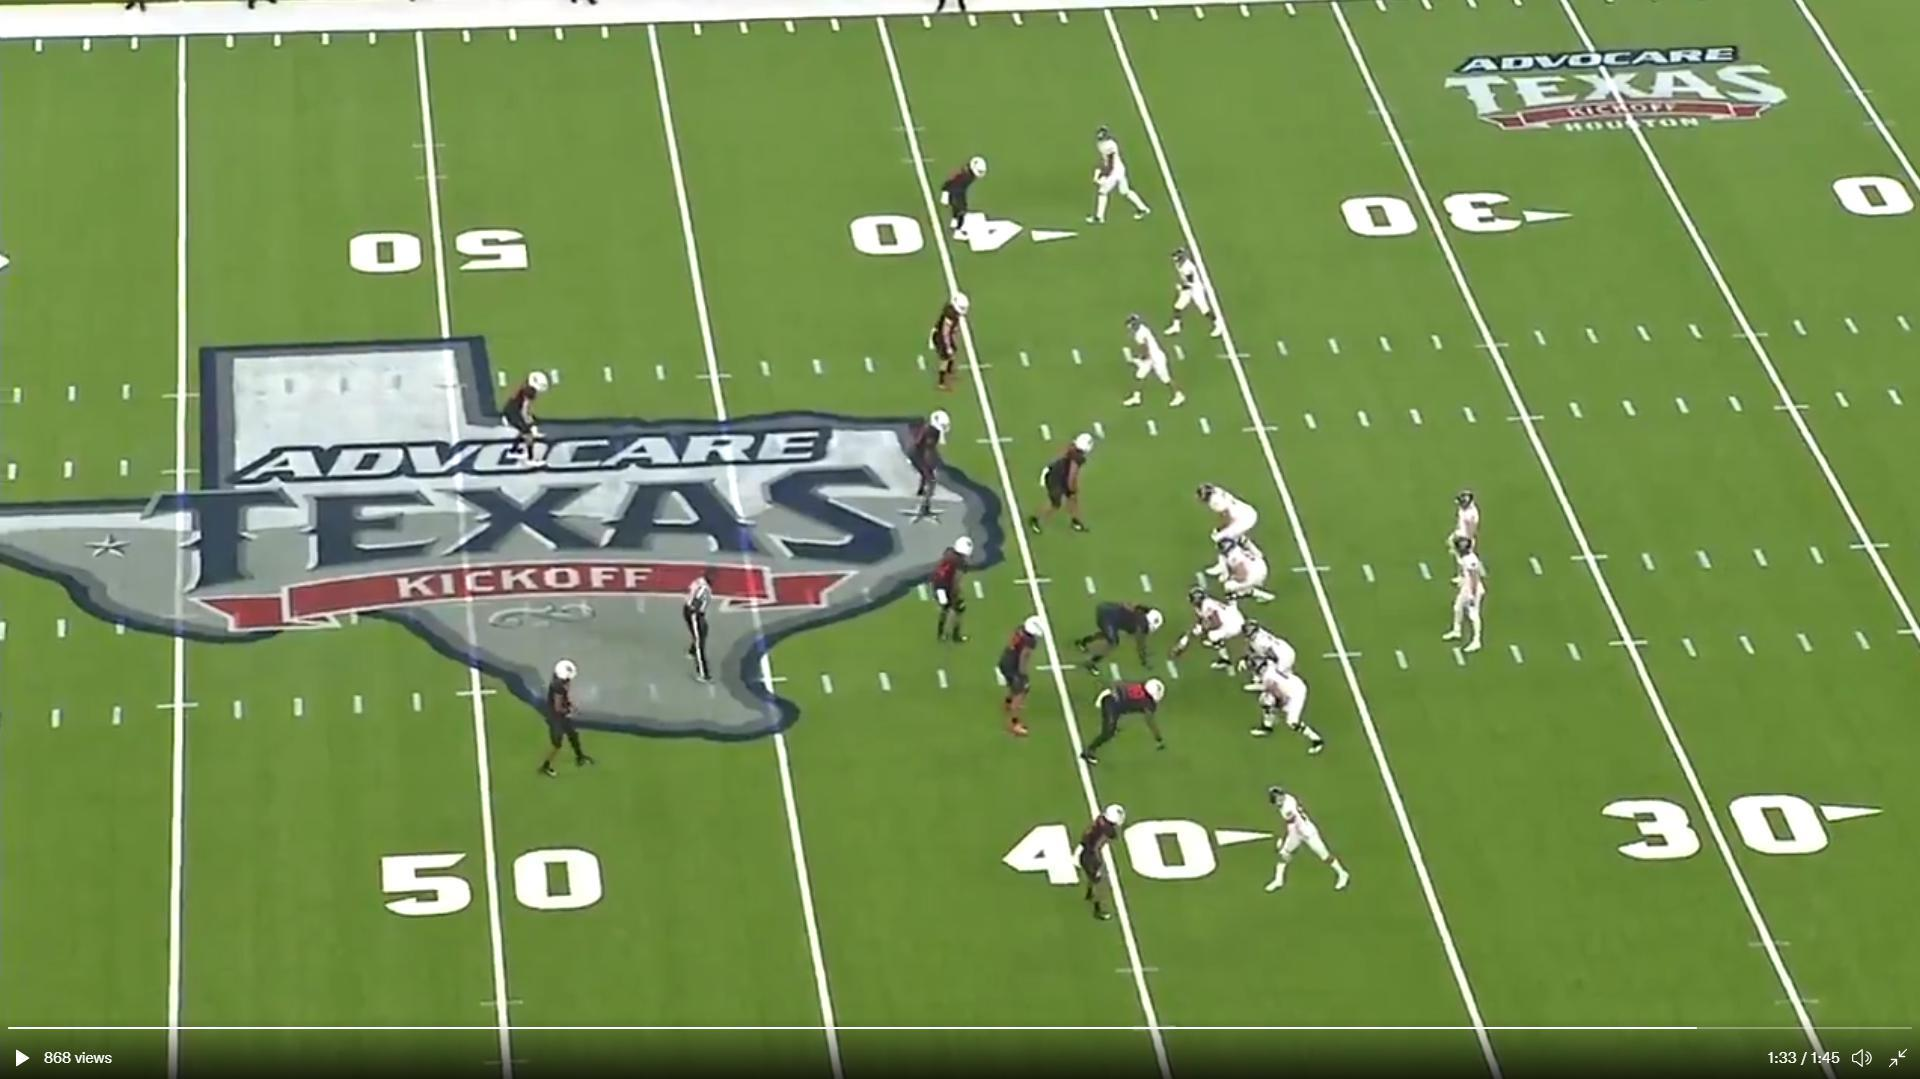defense: (1077, 677, 1175, 769), (1027, 425, 1102, 536), (1069, 798, 1130, 926), (545, 654, 601, 784), (1000, 608, 1052, 741), (924, 532, 982, 650), (504, 361, 559, 471), (1077, 598, 1163, 667), (907, 408, 957, 524), (940, 154, 990, 245), (930, 294, 972, 400)
oline: (1249, 661, 1325, 757), (1174, 587, 1246, 673), (1209, 528, 1282, 608), (1193, 476, 1258, 543), (1244, 620, 1302, 687)
qb: (1445, 538, 1495, 658)
ref: (676, 570, 721, 687)
skill: (1259, 781, 1354, 897), (1120, 313, 1191, 416), (1083, 127, 1151, 232), (1160, 245, 1224, 344), (1443, 487, 1486, 563)
